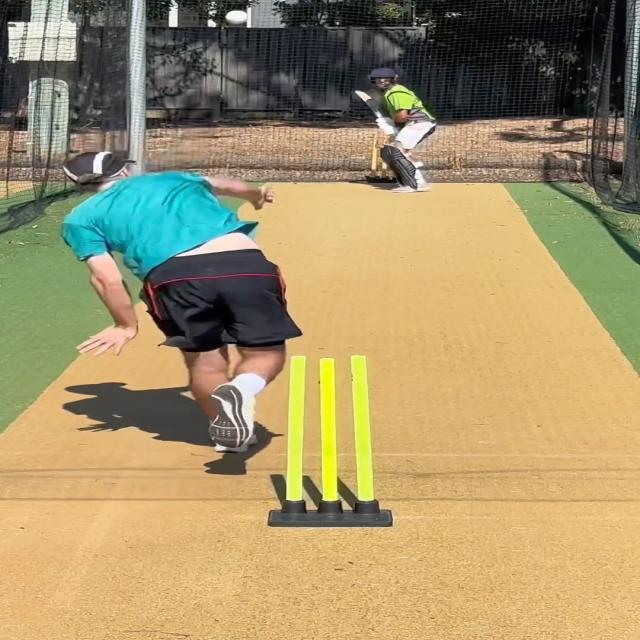ball: (222, 8, 252, 26)
stump: (267, 354, 394, 528)
